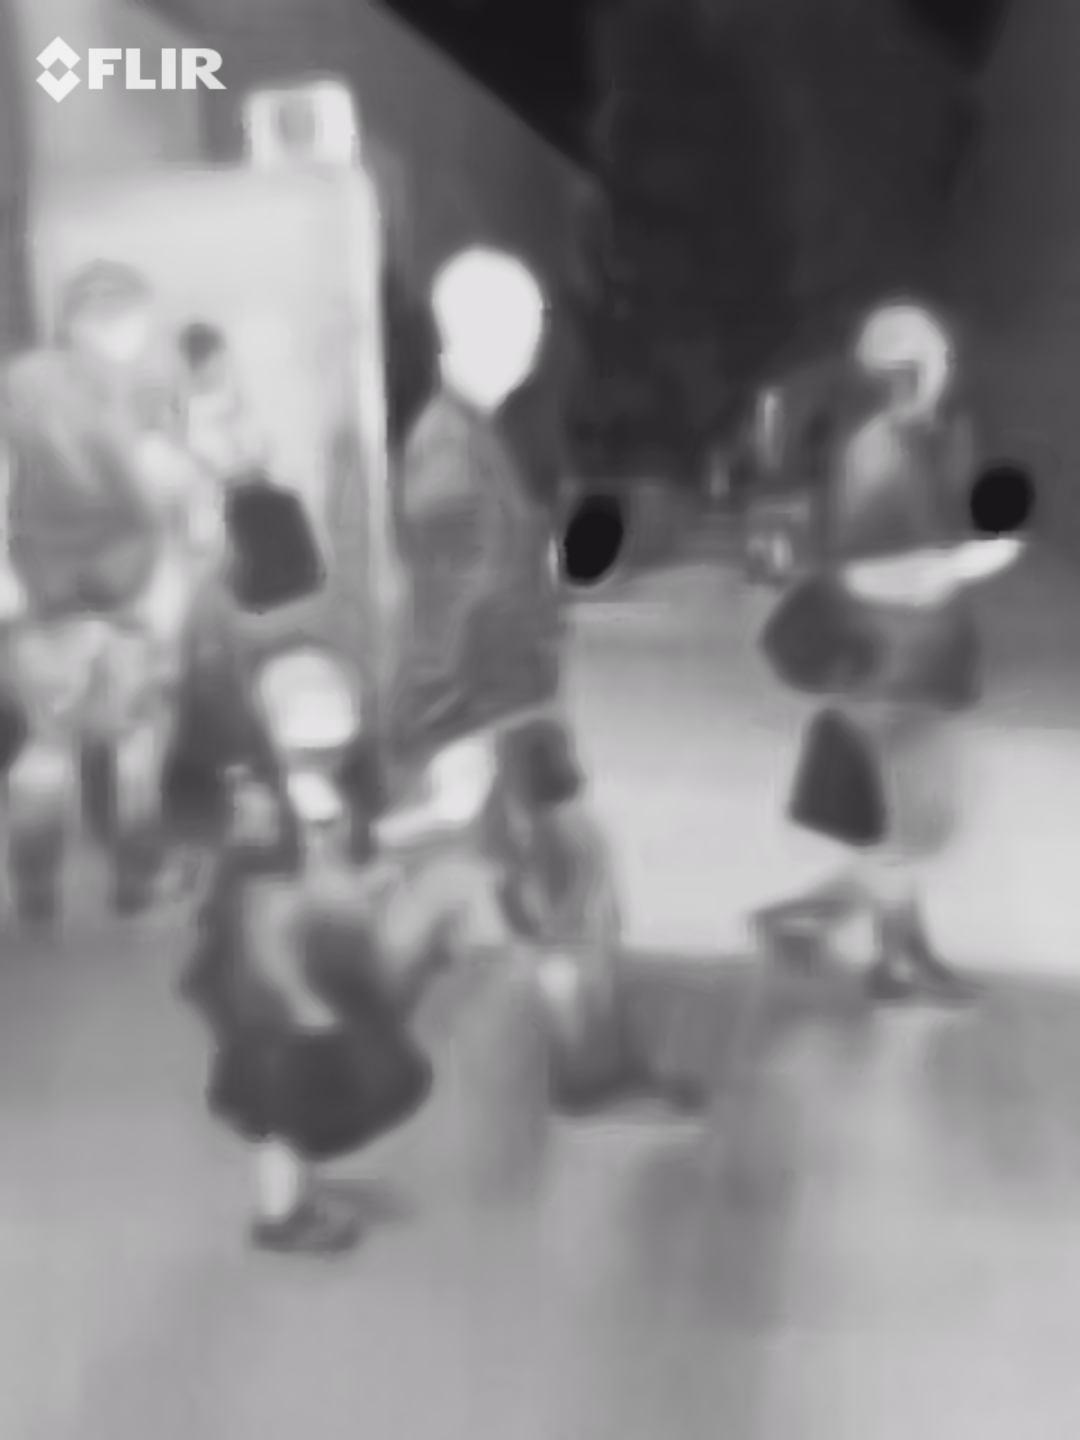head: (423, 245, 556, 422)
